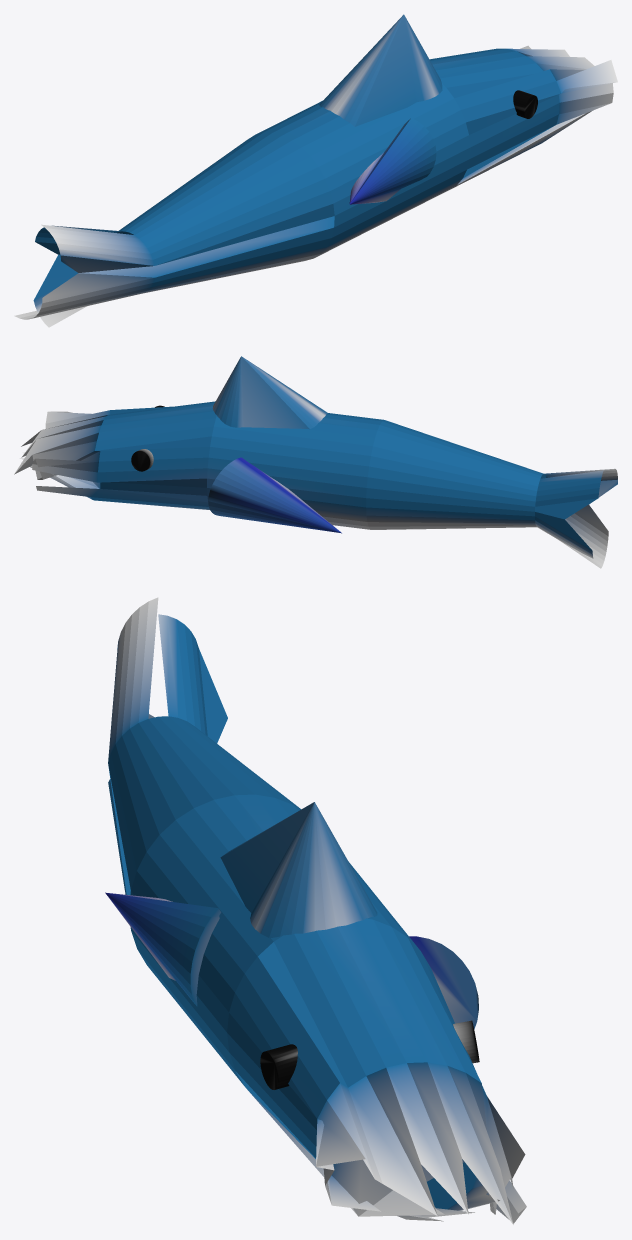
The model's file is shark.fbx.
3 renders of one model, top to bottom at view 1: azimuth 30°, elevation 25°; view 2: azimuth 150°, elevation 25°; view 3: azimuth 270°, elevation 25°, orthographic. The views are drawn at different scales.
Parts seen in each view (by area): view 1: Cylinder.001; view 2: Cylinder.001; view 3: Cylinder.001.
Boxes of the visible parts, x1,y1,x2,y2 form: Cylinder.001: (14,14,617,327); Cylinder.001: (14,356,617,568); Cylinder.001: (105,597,526,1224).
Size of the model in its own units: 1097 by 308 by 380.
